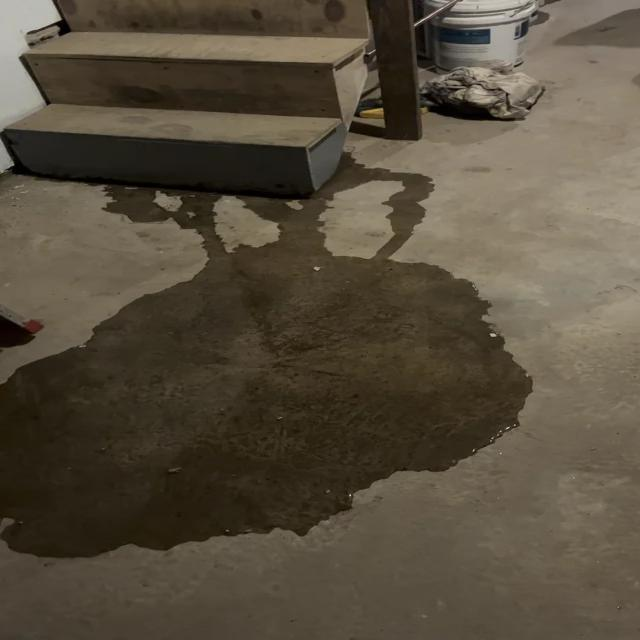water accumulation: (0, 148, 534, 560)
